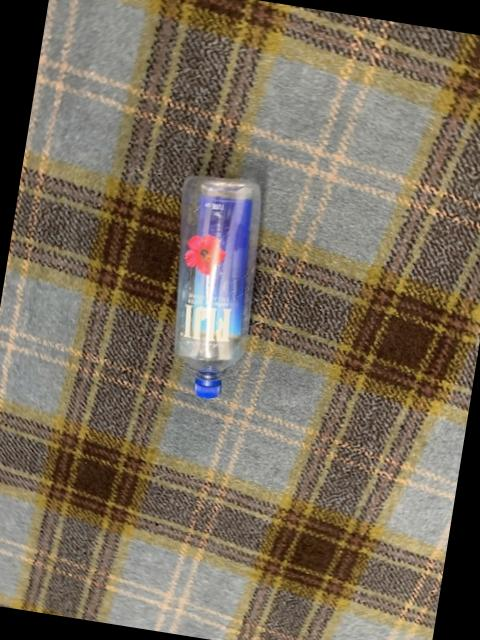plastic: (175, 176, 261, 398)
